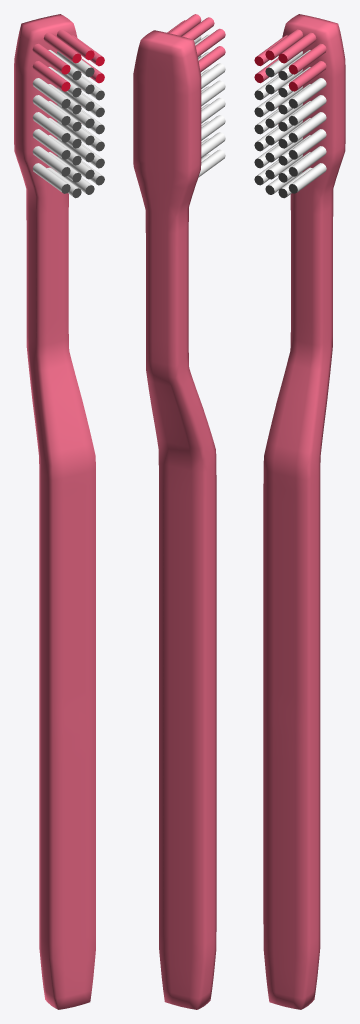
Rendered from toothBrush.fbx.
The picture shows the model from 3 angles, left to right: view 1: azimuth 30°, elevation 25°; view 2: azimuth 150°, elevation 25°; view 3: azimuth 330°, elevation 25°; orthographic projection.
Parts seen in each view (by area): view 1: Box01, Cylinder01, Cylinder551, Cylinder552, Cylinder570, Cylinder547, Cylinder548, Cylinder549, Cylinder550, Cylinder546, Cylinder562; view 2: Box01, Cylinder01, Cylinder570, Cylinder546, Cylinder562, Cylinder552, Cylinder549, Cylinder550, Cylinder547, Cylinder548, Cylinder551; view 3: Box01, Cylinder560, Cylinder557, Cylinder559, Cylinder555, Cylinder554, Cylinder558, Cylinder562, Cylinder553, Cylinder556, Cylinder570.
Part boxes in pixels (box(x1,y1,x2,y2)): Box01: box(14, 14, 95, 1009); Cylinder01: box(32, 43, 67, 72); Cylinder551: box(32, 146, 68, 174); Cylinder552: box(32, 163, 68, 191); Cylinder570: box(43, 32, 79, 61); Cylinder547: box(32, 78, 68, 106); Cylinder548: box(32, 95, 68, 123); Cylinder549: box(32, 112, 68, 140); Cylinder550: box(32, 129, 68, 157); Cylinder546: box(32, 61, 67, 89); Cylinder562: box(57, 29, 92, 58); Box01: box(133, 30, 216, 1009); Cylinder01: box(195, 28, 225, 56); Cylinder570: box(182, 17, 214, 39); Cylinder546: box(198, 46, 225, 72); Cylinder562: box(169, 14, 201, 36); Cylinder552: box(198, 149, 225, 177); Cylinder549: box(201, 97, 225, 123); Cylinder550: box(201, 115, 225, 140); Cylinder547: box(201, 63, 225, 88); Cylinder548: box(201, 80, 225, 106); Cylinder551: box(201, 132, 225, 157); Box01: box(263, 14, 345, 1009); Cylinder560: box(290, 163, 326, 192); Cylinder557: box(290, 129, 326, 158); Cylinder559: box(290, 146, 326, 175); Cylinder555: box(290, 61, 326, 89); Cylinder554: box(290, 43, 326, 72); Cylinder558: box(290, 112, 326, 140); Cylinder562: box(281, 32, 316, 61); Cylinder553: box(291, 95, 326, 123); Cylinder556: box(290, 78, 326, 106); Cylinder570: box(267, 29, 302, 58).
Bounding box in the file's own units: 62.83 × 1010 × 81.46.
